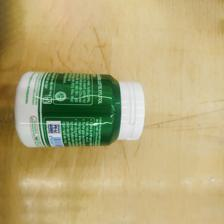Xylitol_green: (13, 71, 145, 148)
